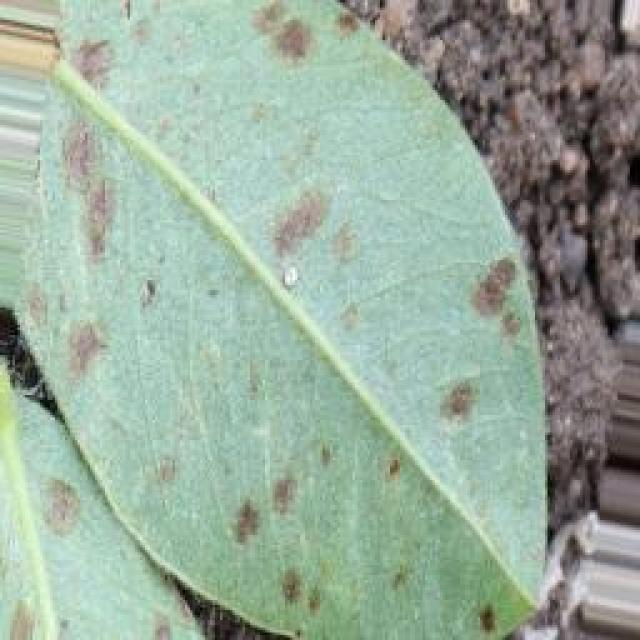Whitefly: (24, 28, 142, 259), (202, 431, 340, 614), (210, 150, 363, 296), (413, 237, 527, 367), (185, 0, 353, 85), (6, 259, 105, 402), (412, 351, 494, 464), (100, 430, 183, 525), (25, 452, 79, 556), (373, 418, 426, 504), (455, 581, 517, 640)
